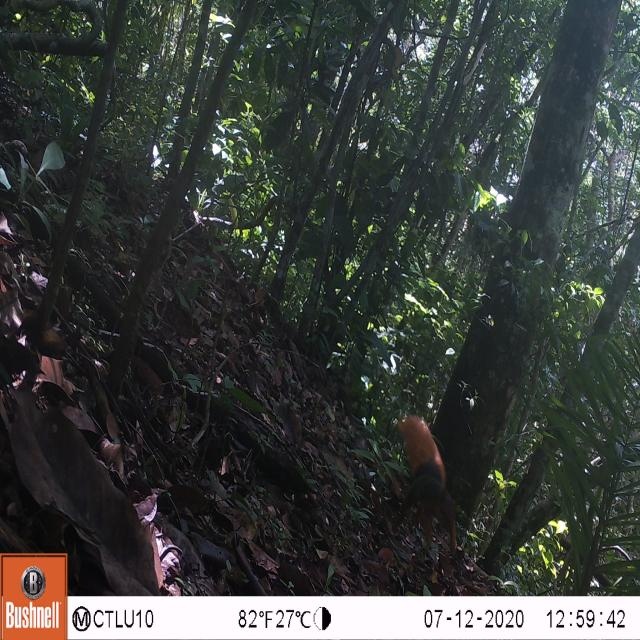Squirrel: (386, 404, 467, 572)
